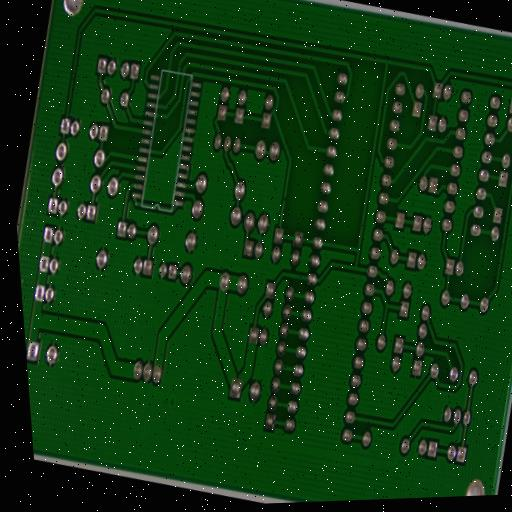open_circuit: (68, 72, 78, 87), (280, 193, 289, 205), (156, 110, 162, 121)
